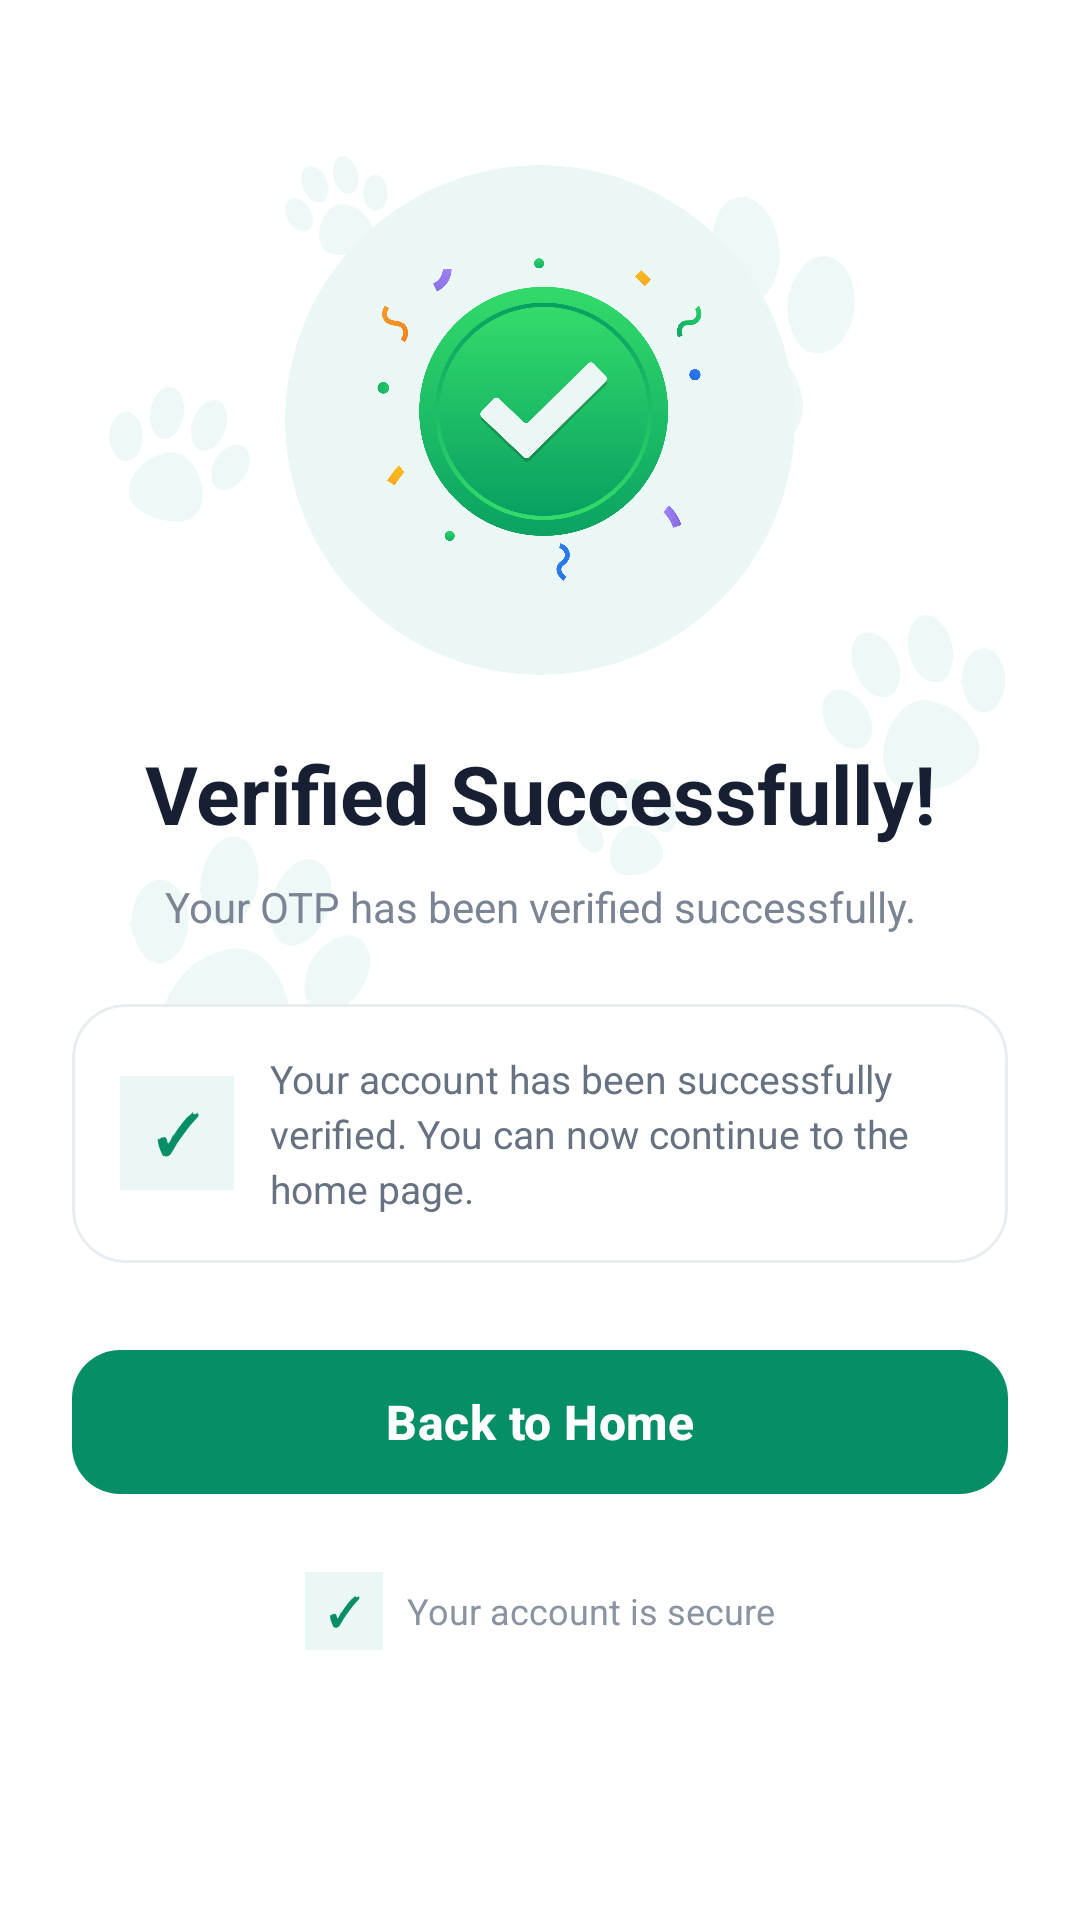

Icons on this 1080 × 1920 Android screen, each with the point to tap as (x,y):
Verification successful: (539,419)
